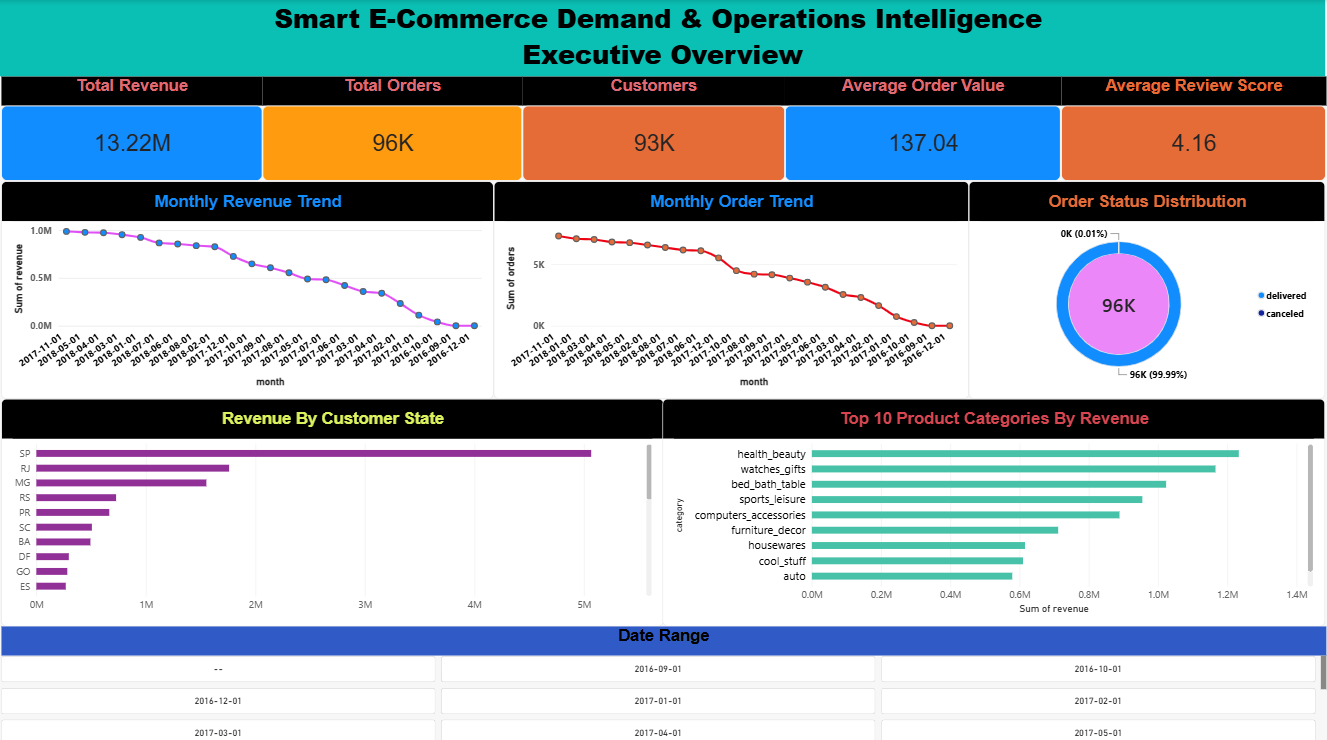

What the dashboard file says about the page in this screenshot:
{"tool":"powerbi","page":{"name":"Executive Overview","canvas":[1920,1080],"ordinal":0},"visuals":[{"type":"cardVisual","title":"Total Revenue","fields":{"Data":["Sum(Executive KPIs.total_revenue)"]},"box":[1.8,110.4,378.2,152],"z":0},{"type":"cardVisual","title":"Total Orders","fields":{"Data":["Sum(Executive KPIs.total_orders)"]},"box":[380,110.4,376.4,152],"z":1000},{"type":"cardVisual","title":"Customers","fields":{"Data":["Sum(Executive KPIs.total_customers)"]},"box":[756.4,110.4,380,152],"z":2000},{"type":"cardVisual","title":"Average Order Value","fields":{"Data":["Sum(Executive KPIs.average_order_value)"]},"box":[1136.5,110.4,399.9,152],"z":3000},{"type":"cardVisual","title":"Average Review Score","fields":{"Data":["Sum(Executive KPIs.average_review_score)"]},"box":[1536.4,110.4,383.6,152],"z":4000},{"type":"lineChart","title":"Monthly Revenue Trend","fields":{"Category":["Monthly Demand.month"],"Y":["Sum(Monthly Demand.revenue)"]},"box":[1.8,262.4,713,314.9],"z":5000},{"type":"lineChart","title":"Monthly Order Trend","fields":{"Category":["Monthly Demand.month"],"Y":["Sum(Monthly Demand.orders)"]},"box":[714.8,262.4,687.7,314.9],"z":6000},{"type":"donutChart","title":"Order Status Distribution","fields":{"Category":["Order Status.order_status"],"Y":["Sum(Order Status.orders)"]},"box":[1402.5,262.4,515.8,314.9],"z":7000},{"type":"barChart","title":"Revenue By Customer State","fields":{"Category":["State Performance.customer_state"],"Y":["Sum(State Performance.revenue)"]},"box":[1.8,577.3,959.1,329.4],"z":8000},{"type":"textbox","box":[0,0,1918.2,110.4],"z":9000},{"type":"barChart","title":"Top 10 Product Categories By Revenue","fields":{"Category":["Category Performance.category"],"Y":["Sum(Category Performance.revenue)"]},"box":[959.1,577.3,959.1,329.4],"z":11000},{"type":"advancedSlicerVisual","title":"Date Range","fields":{"Values":["Monthly Demand.month"]},"box":[1.8,906.6,1918.2,173.7],"z":12000}]}

Visuals, with their boxes in screenshot pixels (x1, y1, x2, y2), scaled from the page's 1920x1080 canvas onto the 1327x740 screenshot:
"Total Revenue" cardVisual: 1:76:263:180
"Total Orders" cardVisual: 263:76:523:180
"Customers" cardVisual: 523:76:785:180
"Average Order Value" cardVisual: 785:76:1062:180
"Average Review Score" cardVisual: 1062:76:1326:180
"Monthly Revenue Trend" lineChart: 1:180:494:396
"Monthly Order Trend" lineChart: 494:180:969:396
"Order Status Distribution" donutChart: 969:180:1326:396
"Revenue By Customer State" barChart: 1:396:664:621
textbox: 0:0:1326:76
"Top 10 Product Categories By Revenue" barChart: 663:396:1326:621
"Date Range" advancedSlicerVisual: 1:621:1326:739
